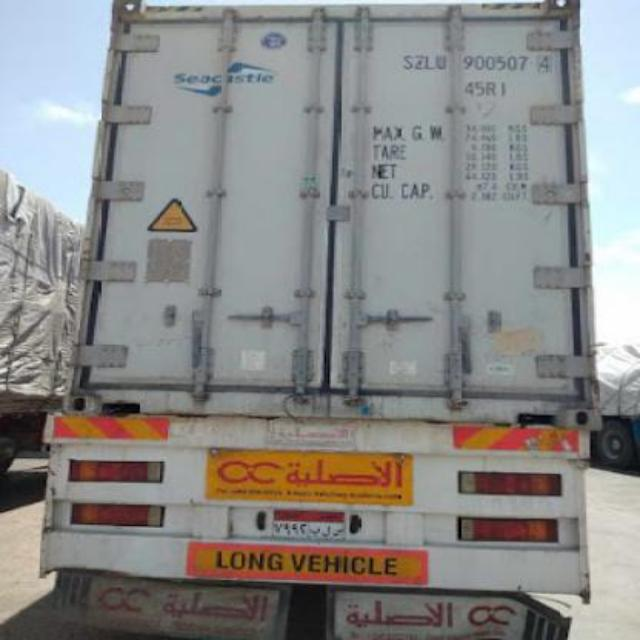0: (486, 54, 496, 74), (508, 54, 518, 74), (476, 54, 486, 70)
4: (536, 52, 554, 74)
5: (496, 55, 508, 71)
7: (518, 56, 530, 70)
9: (462, 54, 474, 70)
L: (424, 55, 436, 71)
S: (402, 51, 412, 71)
U: (434, 52, 450, 72)
Z: (414, 54, 422, 70)
